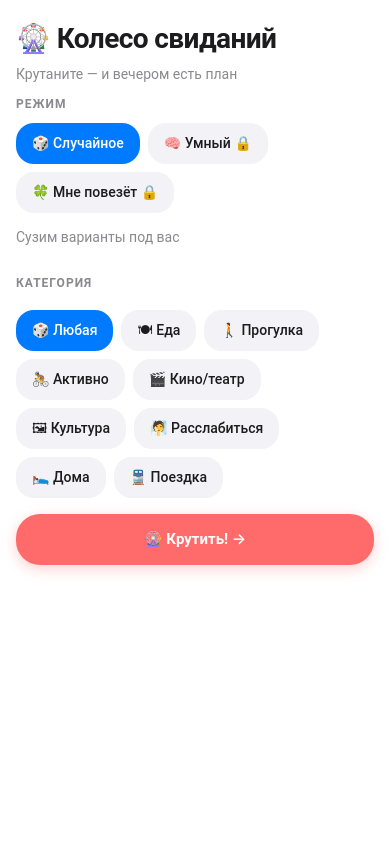
Scenario: DateWheel — cluster 13 stale-idea timer fix › re-spinning clears the previous error banner
This screenshot has width=390, height=844.
Click the button "🎡 Крутить! →": (195, 539) [16,514,374,564]
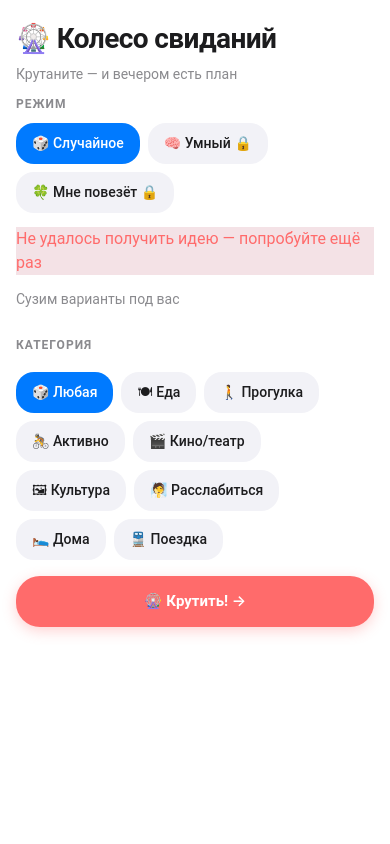
Now the text "Не удалось получить идею — попробуйте ещё раз" is shown, box [16,227,374,275]
# Second spin succeeds → error clears, result renders.
Click the button "🎡 Крутить! →": (195, 601) [16,576,374,626]
Wait 1200 ms
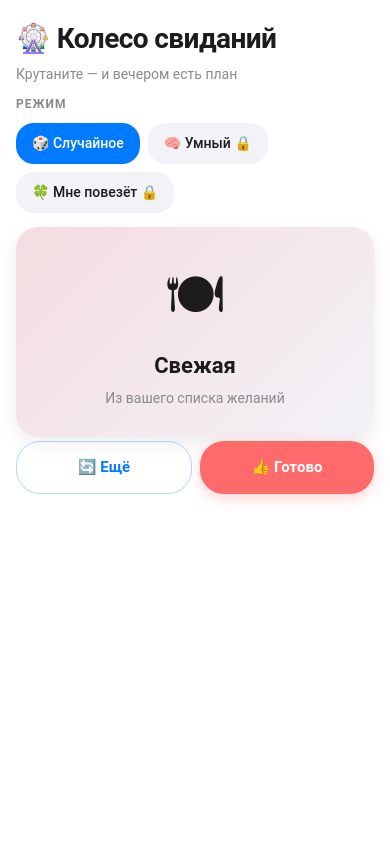
Now the text "Не удалось получить идею — попробуйте ещё раз" is gone
Now the text "Свежая" is shown, box [154,353,236,378]
